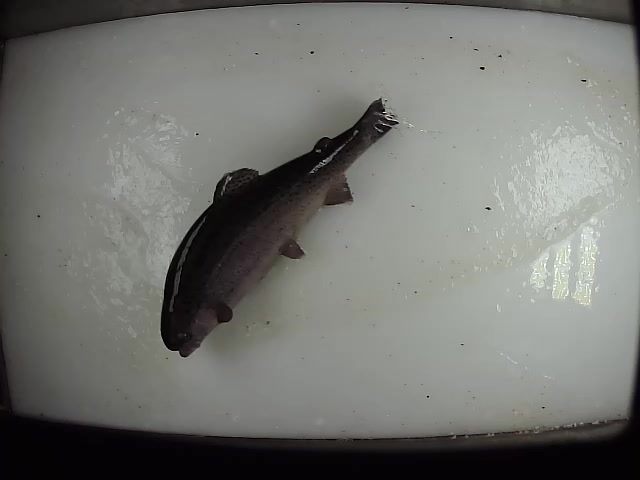fish: (157, 94, 401, 363)
